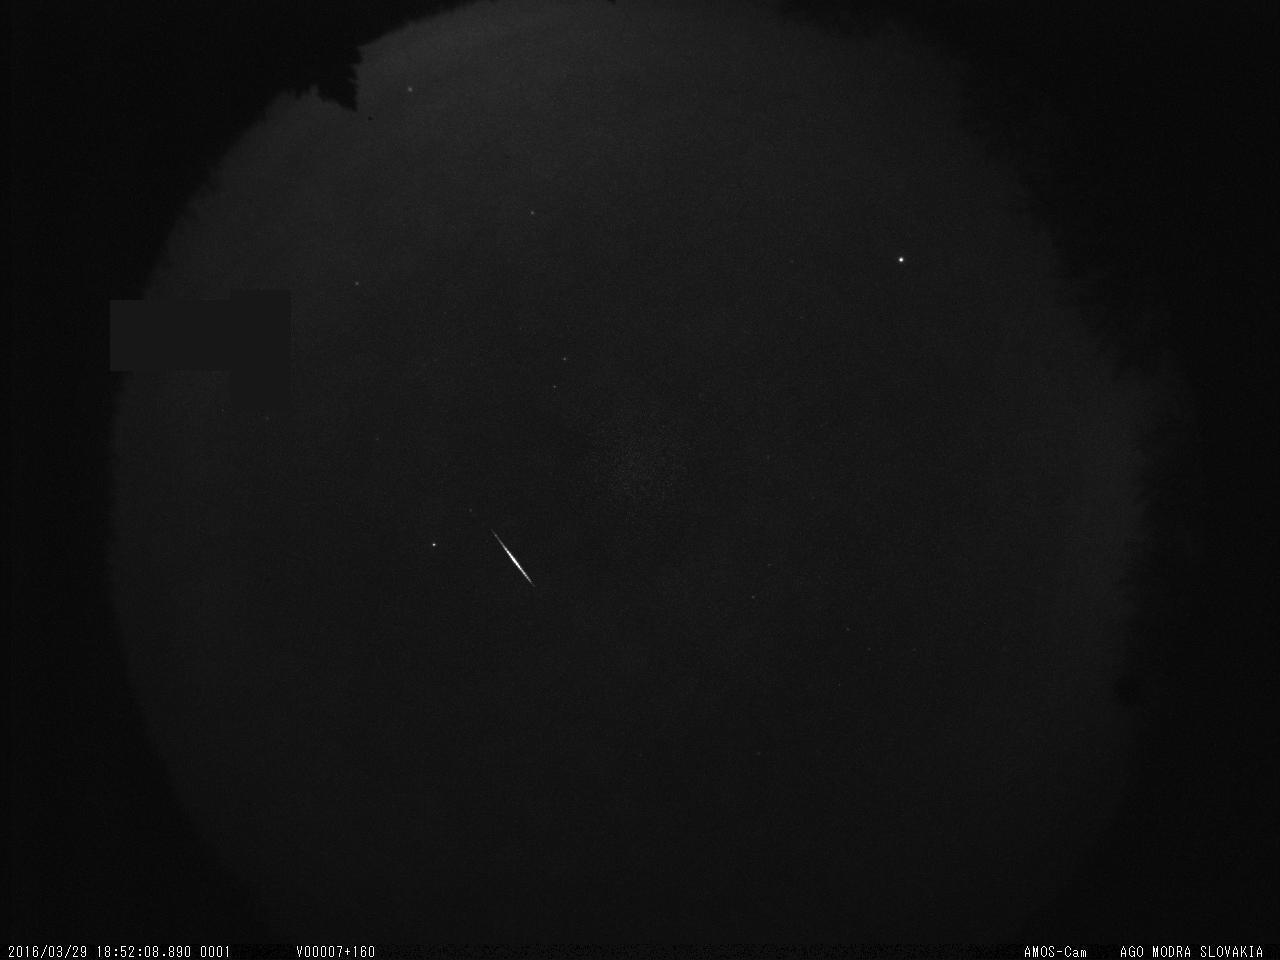meteor: (463, 503, 558, 595)
